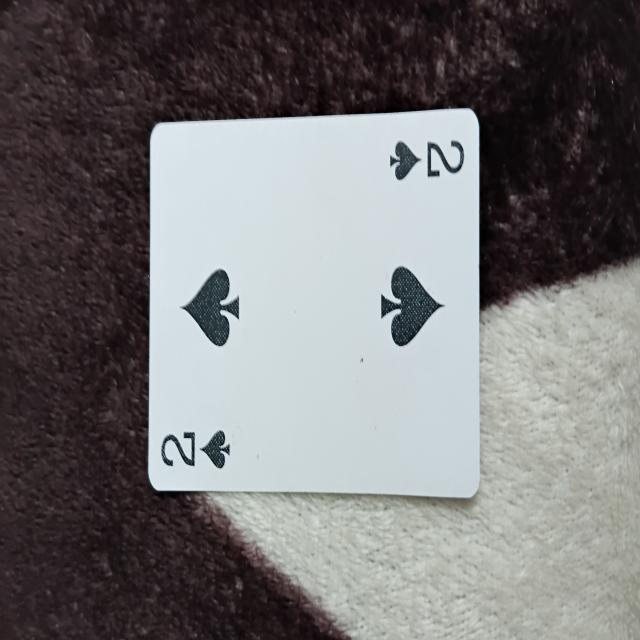2S: (151, 127, 480, 499)
